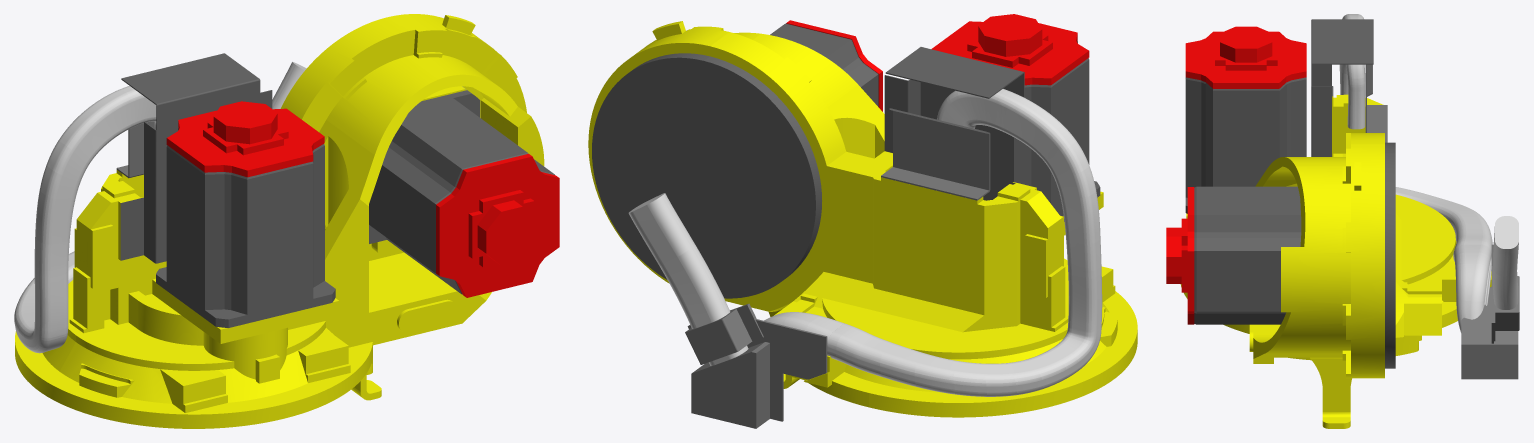
3 renders of one model, left to right at view 1: azimuth 30°, elevation 25°; view 2: azimuth 150°, elevation 25°; view 3: azimuth 270°, elevation 25°, orthographic. The views are drawn at different scales.
Visible parts, largest first — view 1: Mesh_0.001; view 2: Mesh_0.001; view 3: Mesh_0.001.
Part boxes in pixels (<box>): Mesh_0.001: <box>14,14,559,428</box>; Mesh_0.001: <box>588,14,1137,428</box>; Mesh_0.001: <box>1166,14,1519,428</box>.
Size of the model in its own units: 0.7214 by 0.5082 by 0.497.
